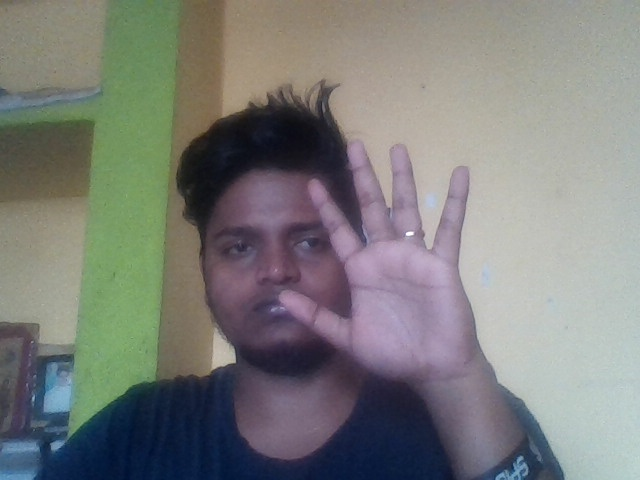Hello: (275, 134, 498, 385)
